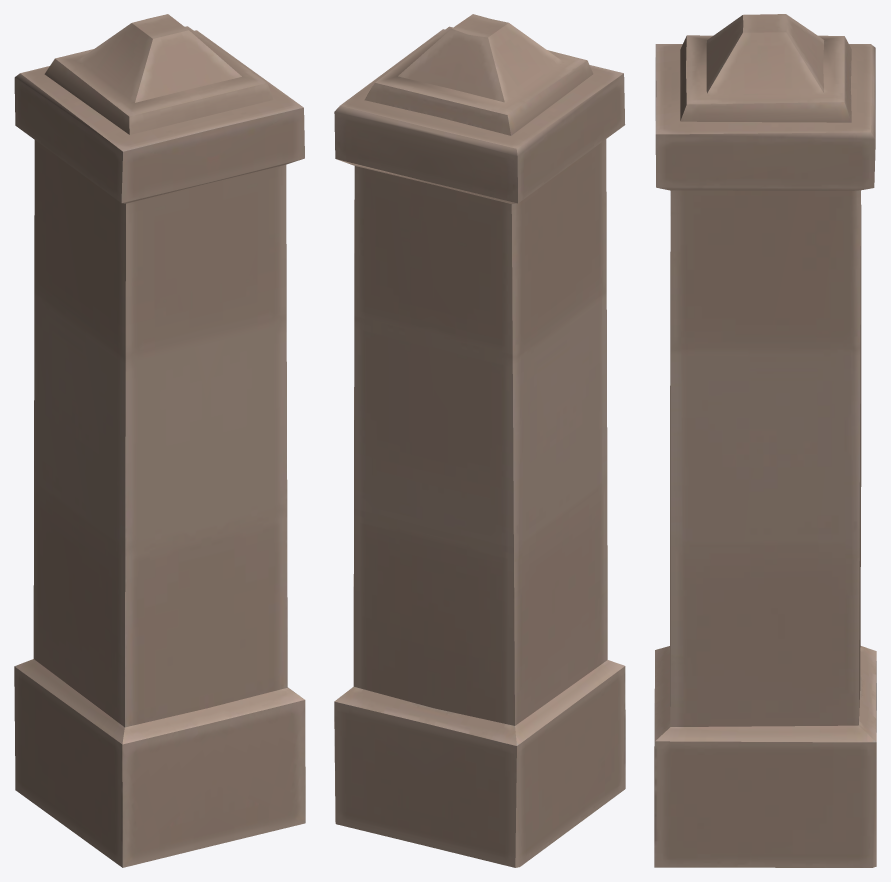
The model's file is railing_post.glb.
3 views of the same model, side by side, from view 1: azimuth 30°, elevation 25°; view 2: azimuth 150°, elevation 25°; view 3: azimuth 270°, elevation 25° (orthographic). The views are drawn at different scales.
Visible parts, largest first — view 1: body; view 2: body; view 3: body.
Boxes of the visible parts, x1,y1,x2,y2 form: body: (14,14,305,867); body: (334,14,625,867); body: (654,14,876,867).
Size of the model in its own units: 0.3036 by 1.23 by 0.3094.
1 material, 1 textured.
